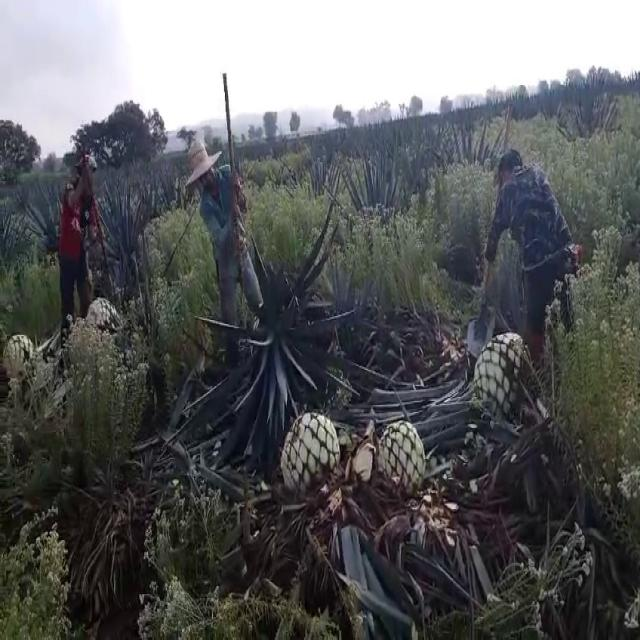agave: (471, 333, 532, 426), (276, 411, 341, 494), (373, 418, 428, 494), (84, 294, 120, 341), (2, 332, 33, 377)
